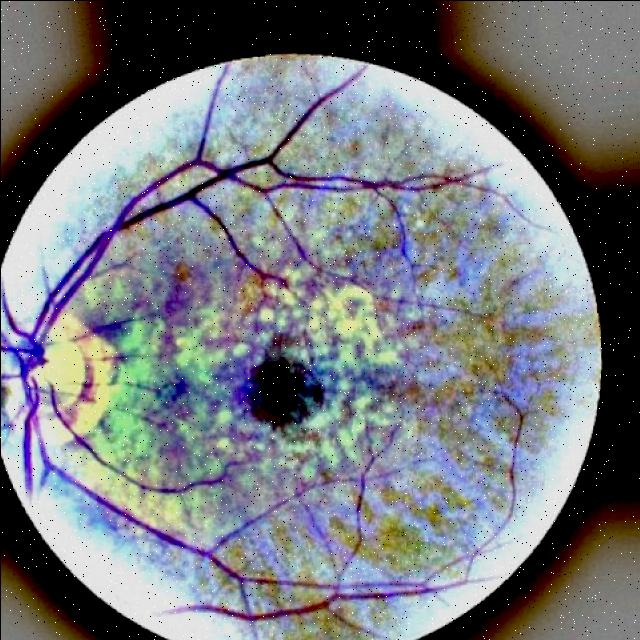Macula: (223, 339, 335, 437)
Nerves: (15, 369, 477, 601), (15, 137, 443, 373)
Optic Disk: (0, 294, 118, 445)
